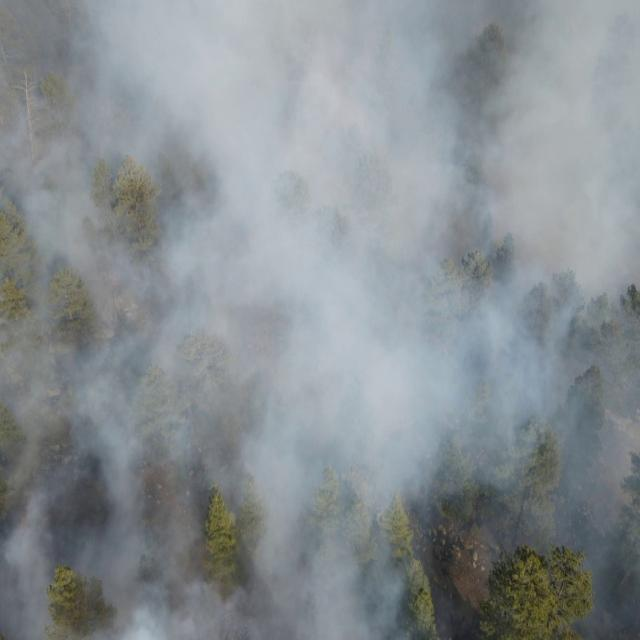smoke: (0, 2, 640, 498), (224, 498, 638, 588), (0, 501, 194, 640), (194, 590, 444, 640), (536, 595, 637, 640)
